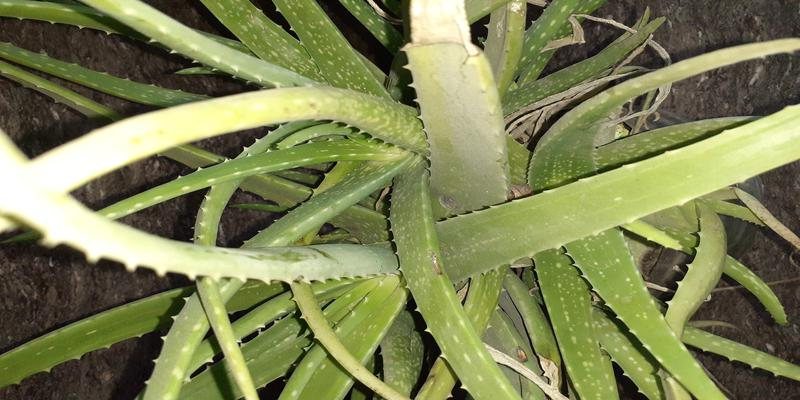Aloevera: (118, 37, 745, 375)
